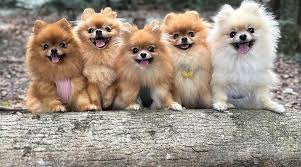chien: (208, 3, 287, 119), (71, 5, 135, 116), (159, 10, 218, 117), (126, 16, 181, 120), (23, 17, 78, 114)
